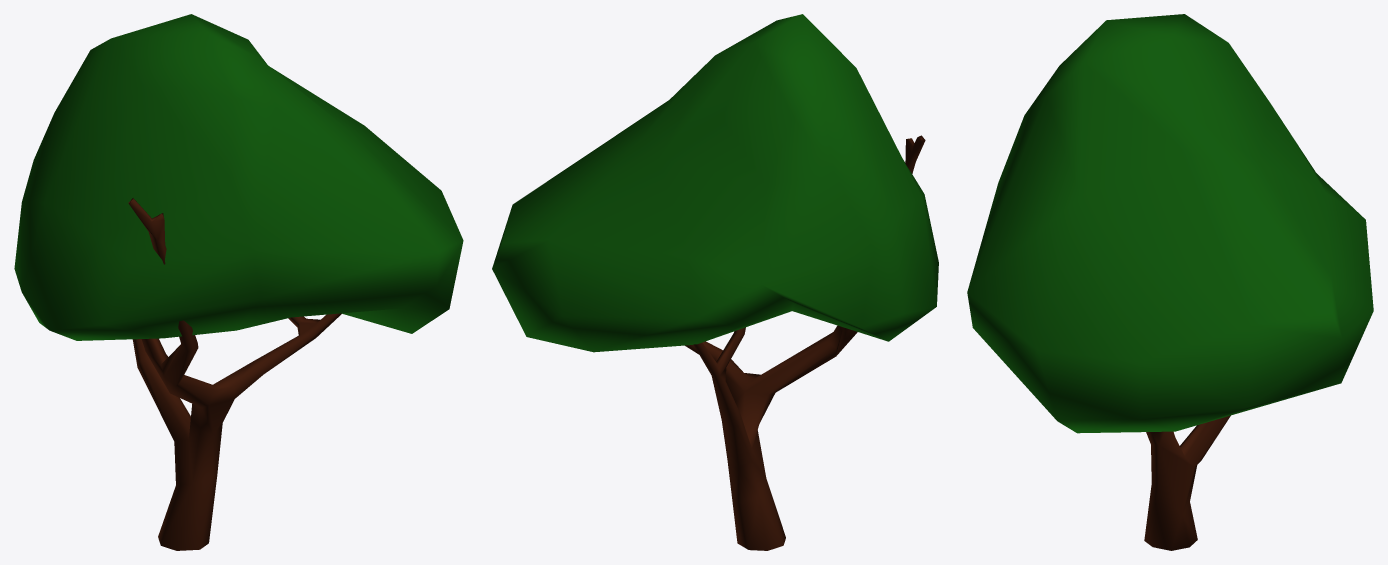
The model's file is lowpoly_tree_14.glb.
The picture shows the model from 3 angles, left to right: view 1: azimuth 30°, elevation 25°; view 2: azimuth 150°, elevation 25°; view 3: azimuth 270°, elevation 25°; orthographic projection. The views are drawn at different scales.
Size of the model in its own units: 1.26 by 1.6 by 1.14.
